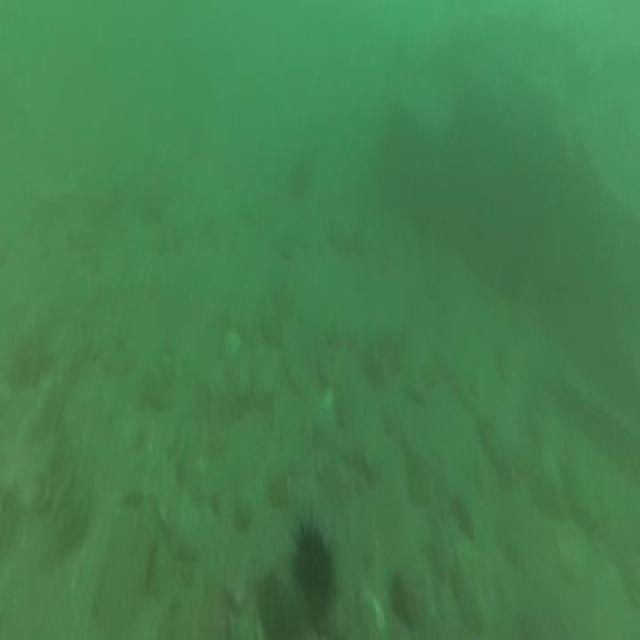echinus: (291, 514, 336, 626), (284, 155, 316, 207)
